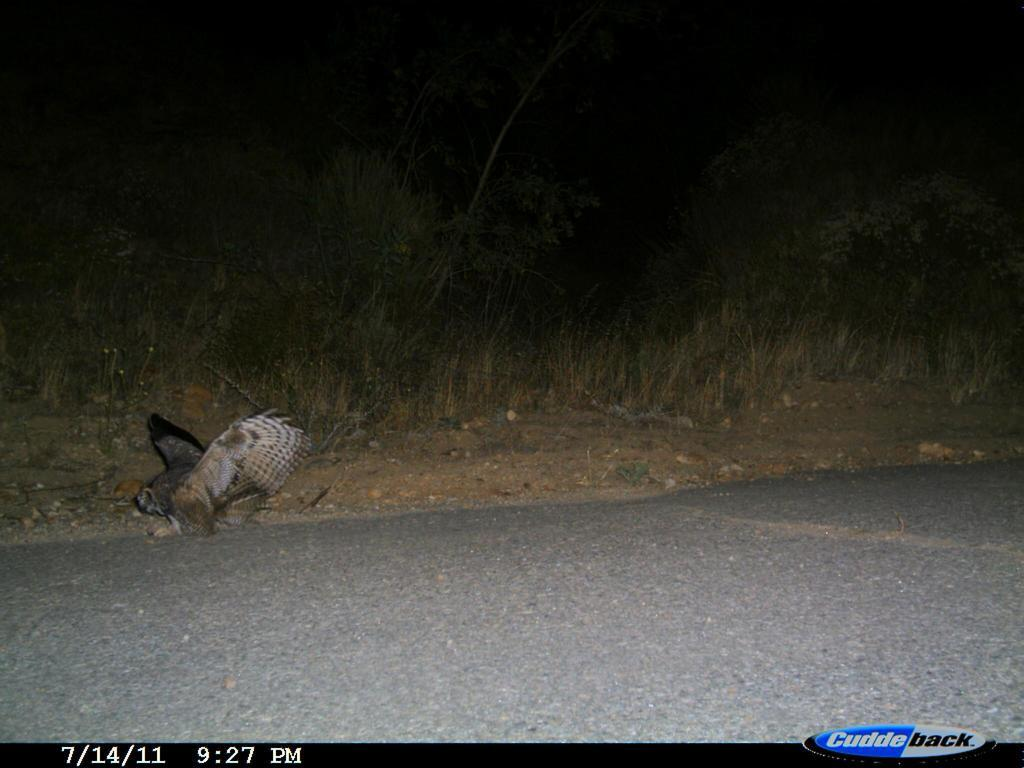bird: (127, 397, 321, 555)
